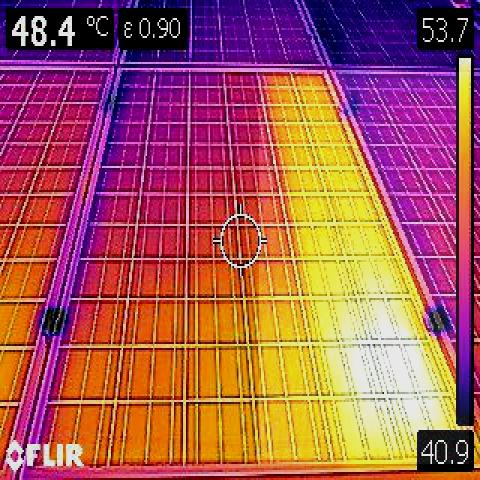fault: (259, 72, 469, 464)
